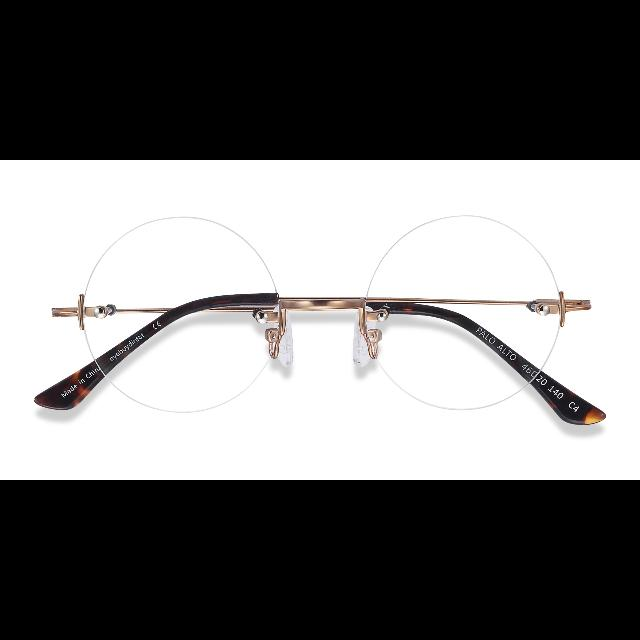glasses: (28, 211, 610, 443)
